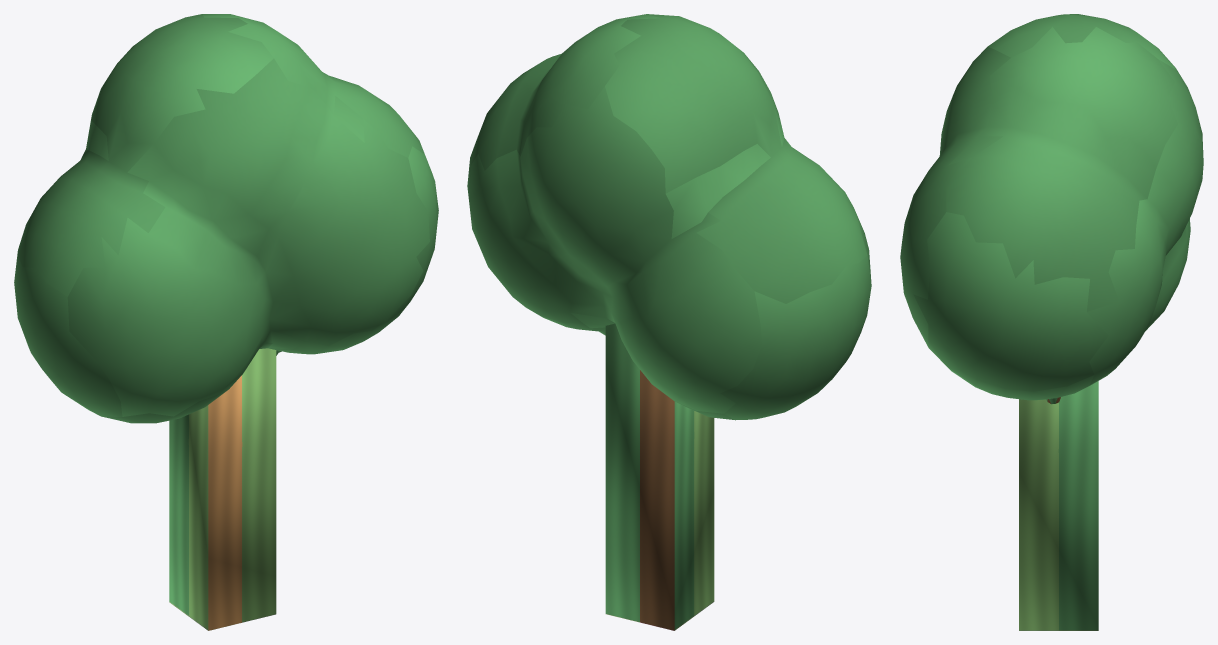
Rendered from tree_round_a.glb.
3 views of the same model, side by side, from view 1: azimuth 30°, elevation 25°; view 2: azimuth 150°, elevation 25°; view 3: azimuth 270°, elevation 25° (orthographic).
Parts seen in each view (by area): view 1: lod0, col; view 2: lod0, col; view 3: lod0, col.
Part boxes in pixels (<box>): lod0: <box>14,14,438,423</box>; col: <box>169,348,276,630</box>; lod0: <box>467,14,871,420</box>; col: <box>605,323,714,630</box>; lod0: <box>900,14,1203,404</box>; col: <box>1019,381,1098,630</box>.
Size of what is drawn, in the model's own units: 3.32 by 4.88 by 2.28.
2 materials, 2 textured.
